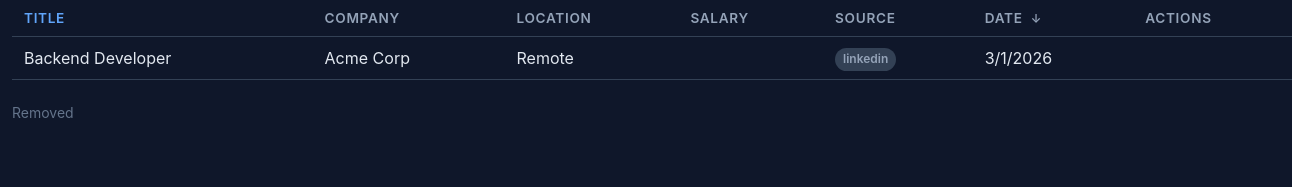
SearchResultsTable — removed postings section › expands the removed section when the header is clicked
# Click the removed section header to expand
Step 1. Click the button "Removed" → (43, 112), box [12,96,74,129]
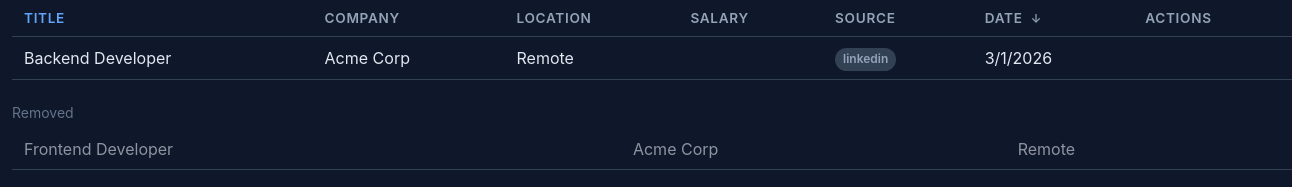
Now the text "Frontend Developer" is shown, box [12,129,621,169]
